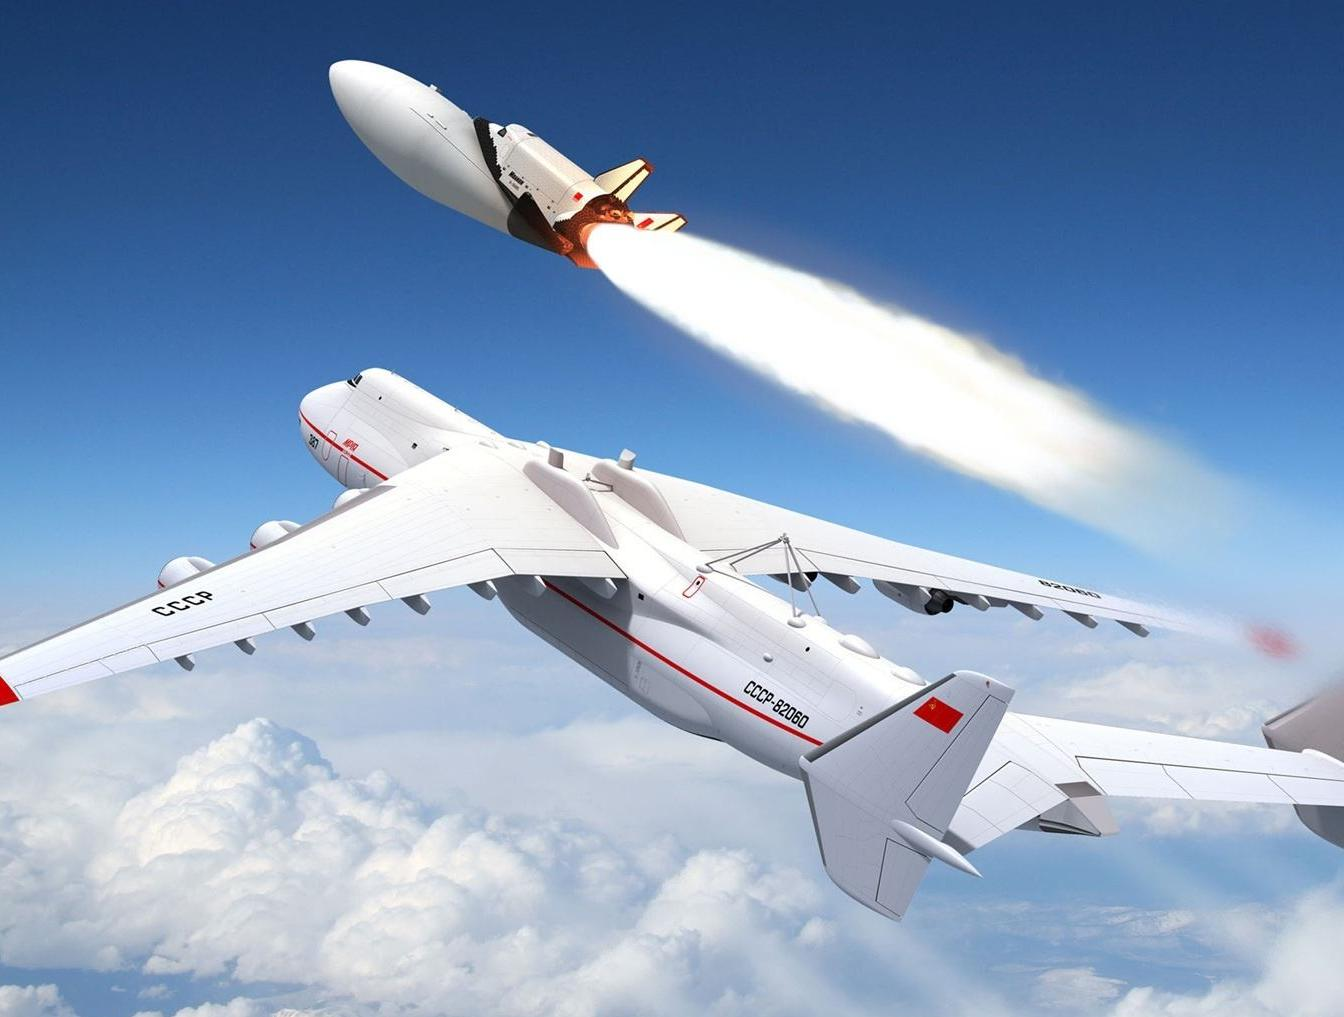airplane: (4, 364, 1344, 920)
